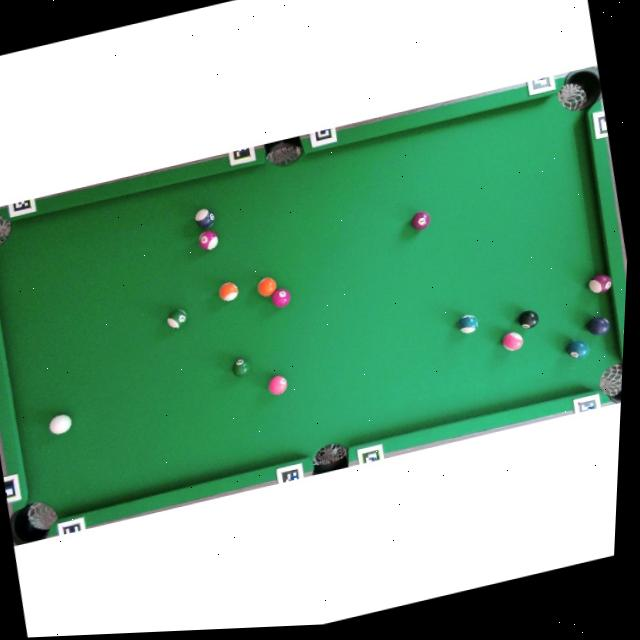cue ball: (46, 412, 74, 437)
other: (585, 314, 612, 338), (587, 273, 614, 297), (500, 329, 525, 354), (193, 207, 217, 231), (456, 312, 480, 336), (217, 280, 241, 304), (255, 274, 279, 298), (565, 338, 590, 361), (197, 229, 220, 253), (229, 356, 253, 379), (165, 307, 189, 330), (409, 208, 432, 231), (266, 373, 289, 396), (517, 308, 541, 330), (271, 286, 293, 309)
